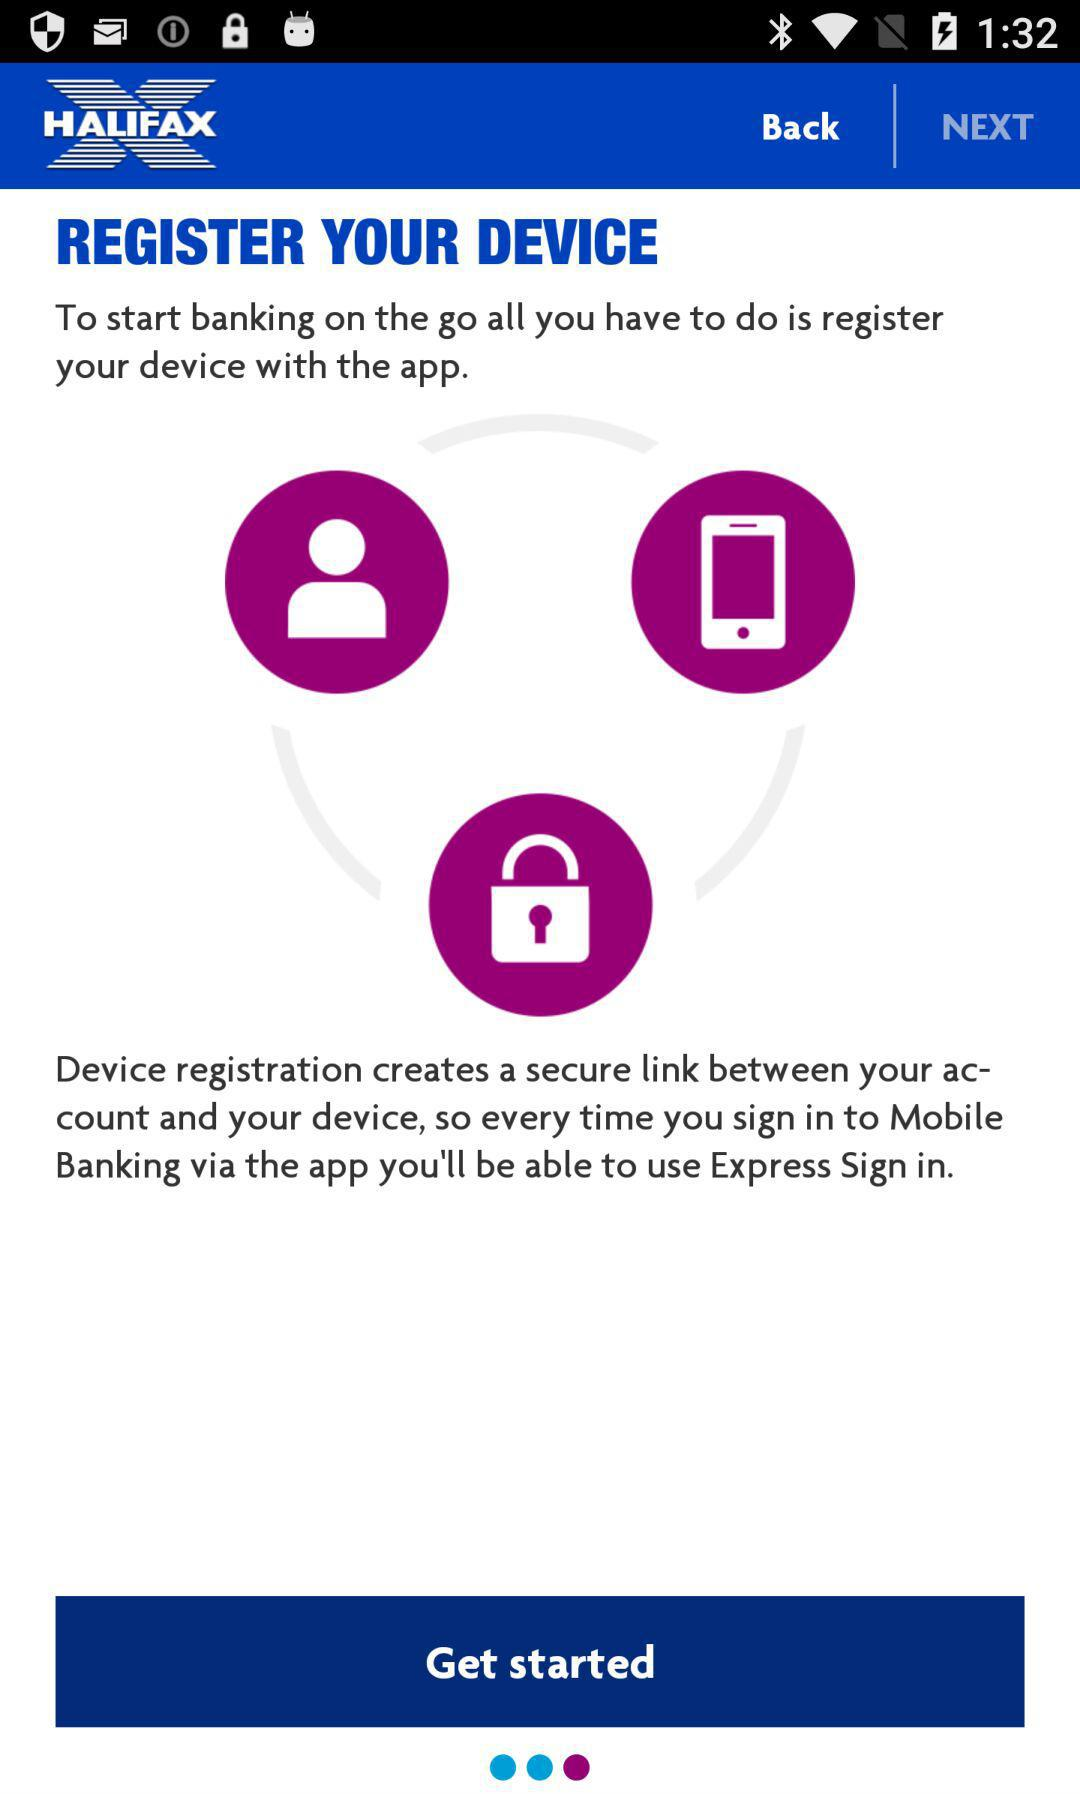Image: (227, 413, 856, 1016), (41, 73, 218, 172)
PageIndicator: (489, 1753, 591, 1782)
Text: (56, 1055, 1004, 1188), (53, 302, 944, 388), (58, 218, 659, 267), (942, 114, 1034, 142), (762, 111, 840, 144)
TextButton: (56, 1595, 1025, 1727)
Toolbar: (3, 64, 1080, 188)
UpperTaskBar: (1, 1, 1080, 64)
